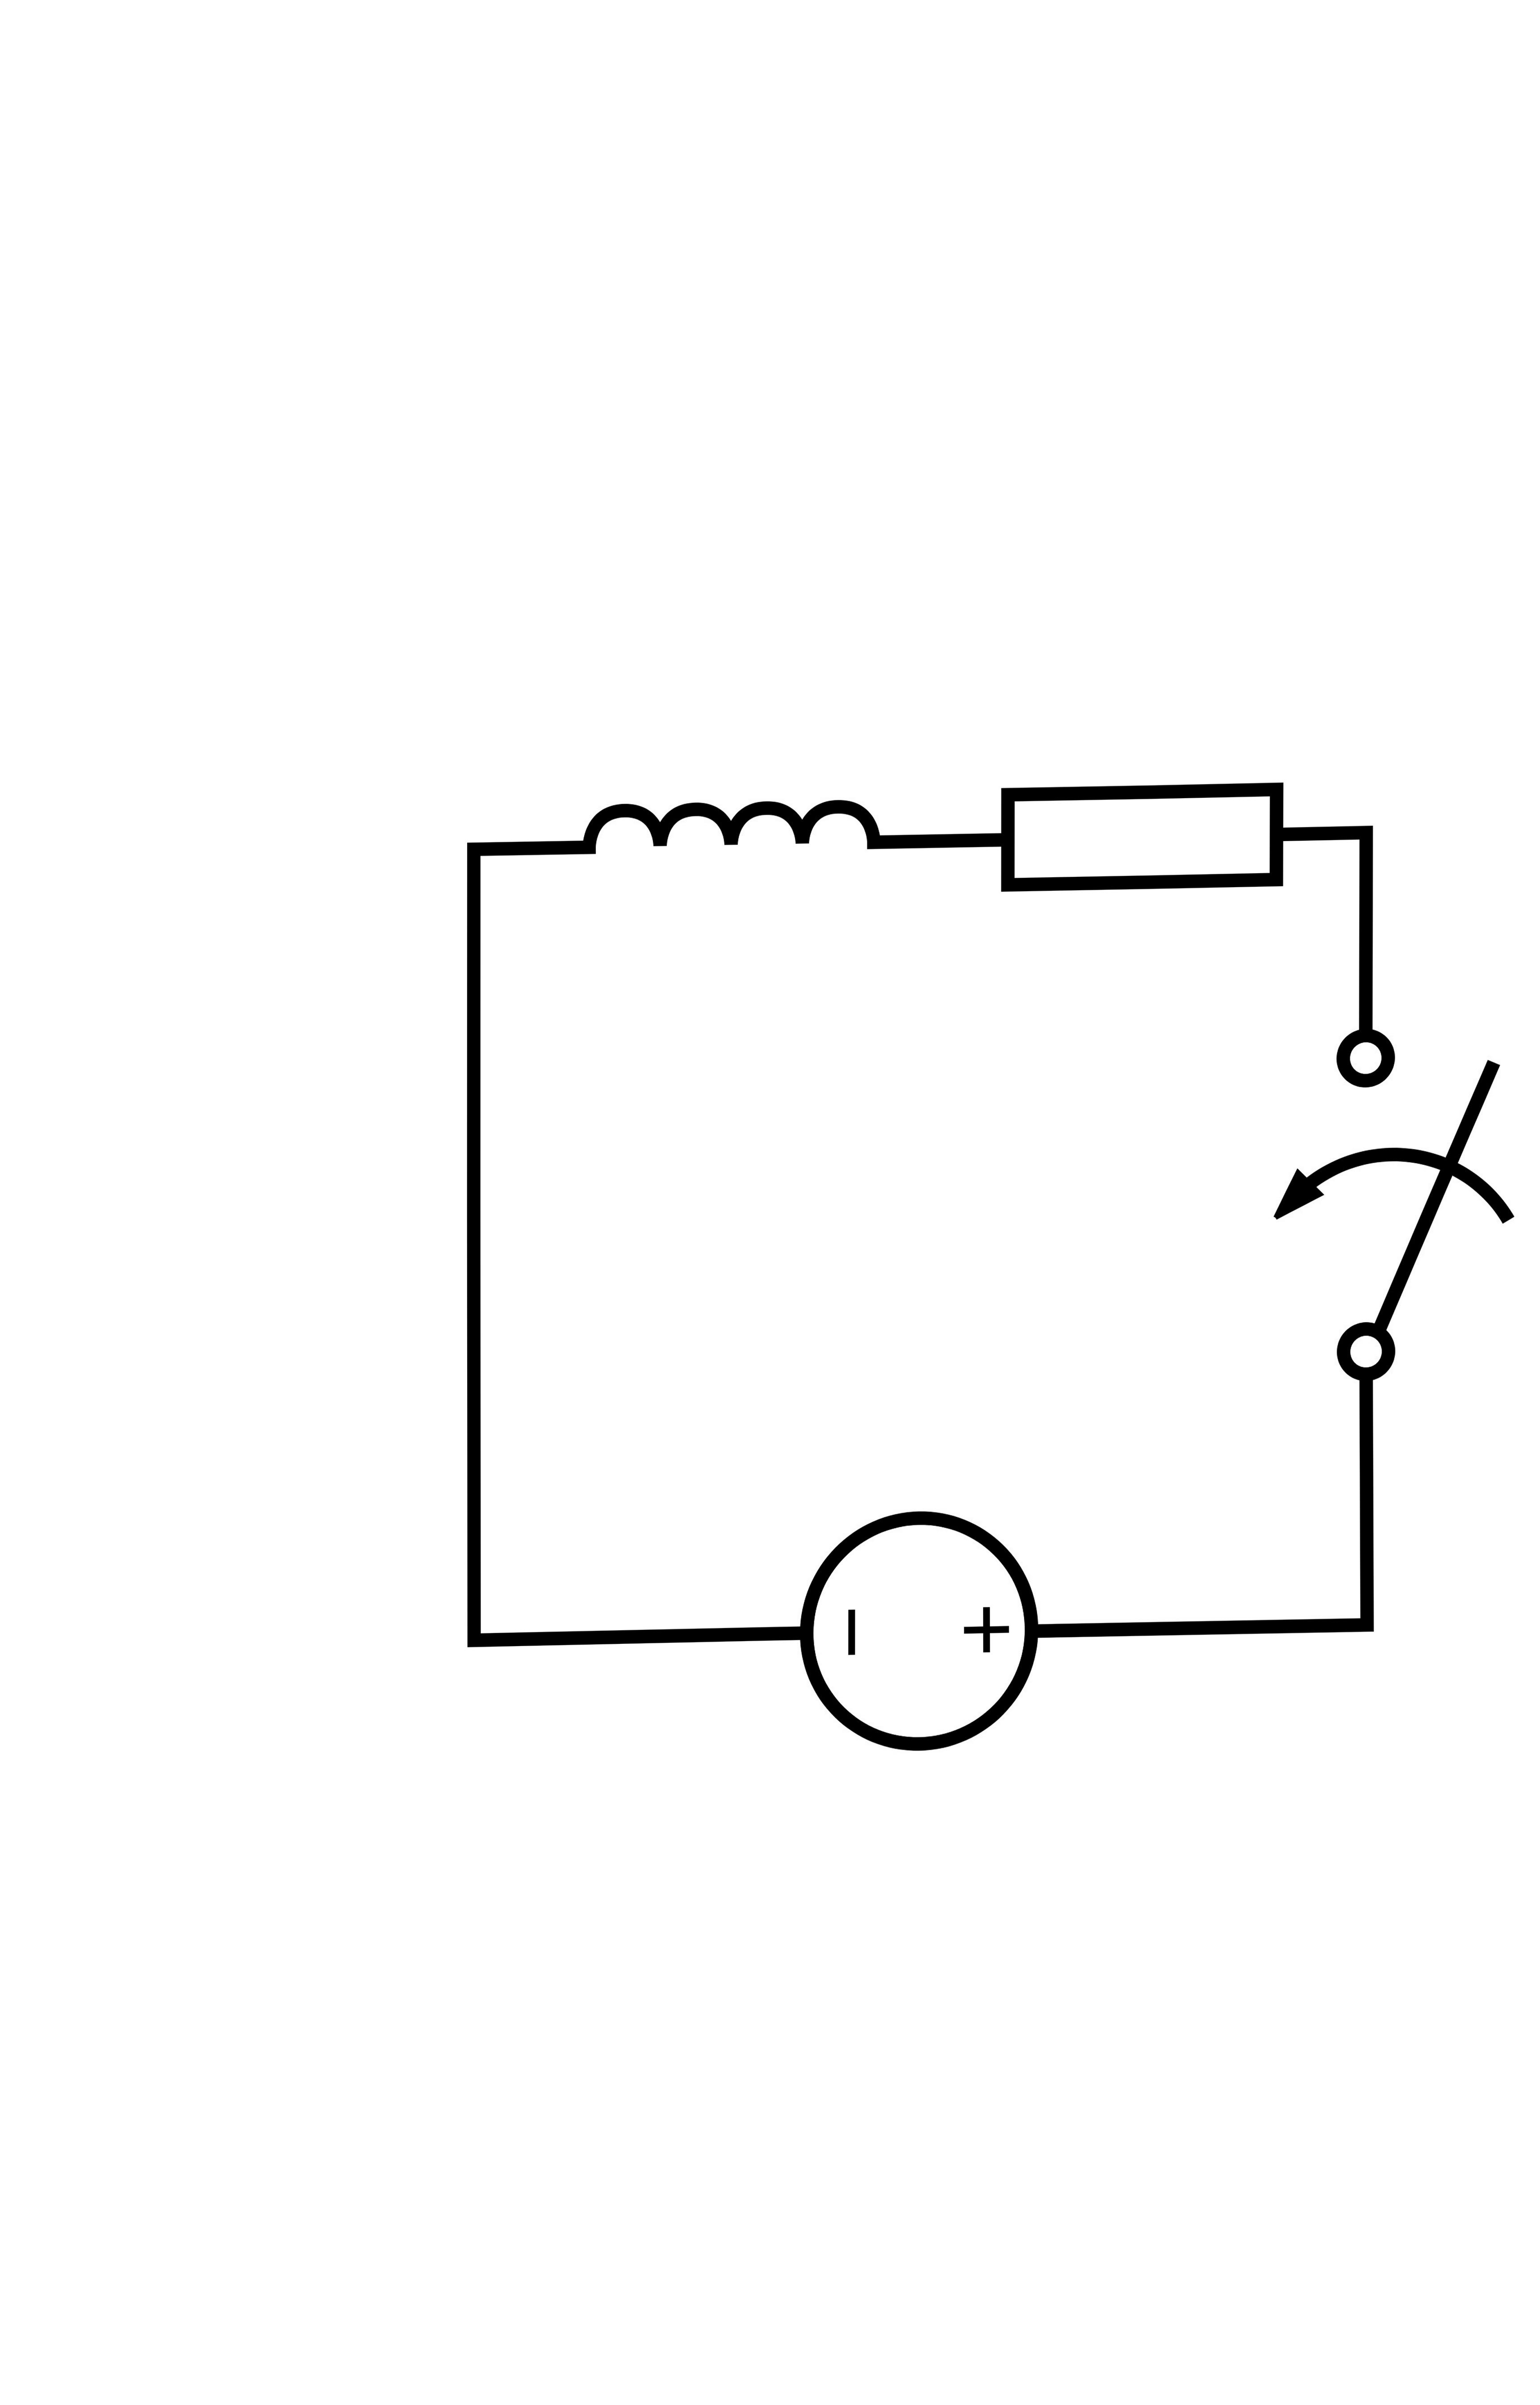Battery: (738, 1441, 1107, 1844)
